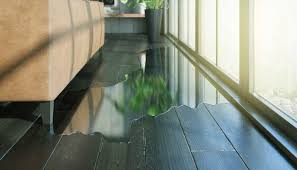Wet-floor: (2, 86, 226, 129), (56, 64, 164, 140), (140, 43, 229, 118)
